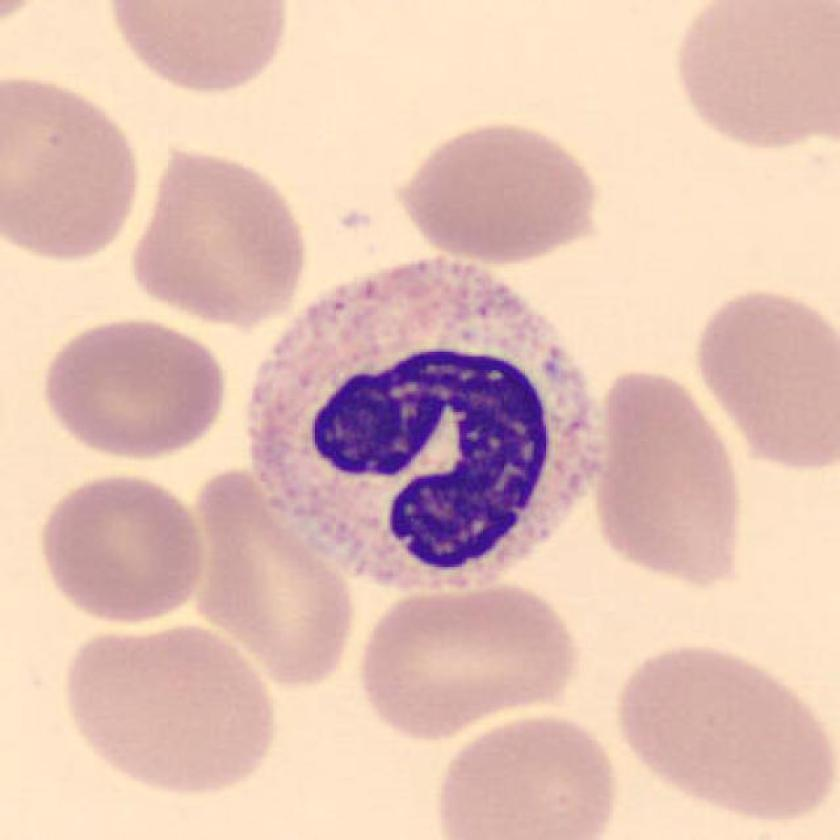neutrophil: (255, 262, 596, 592)
